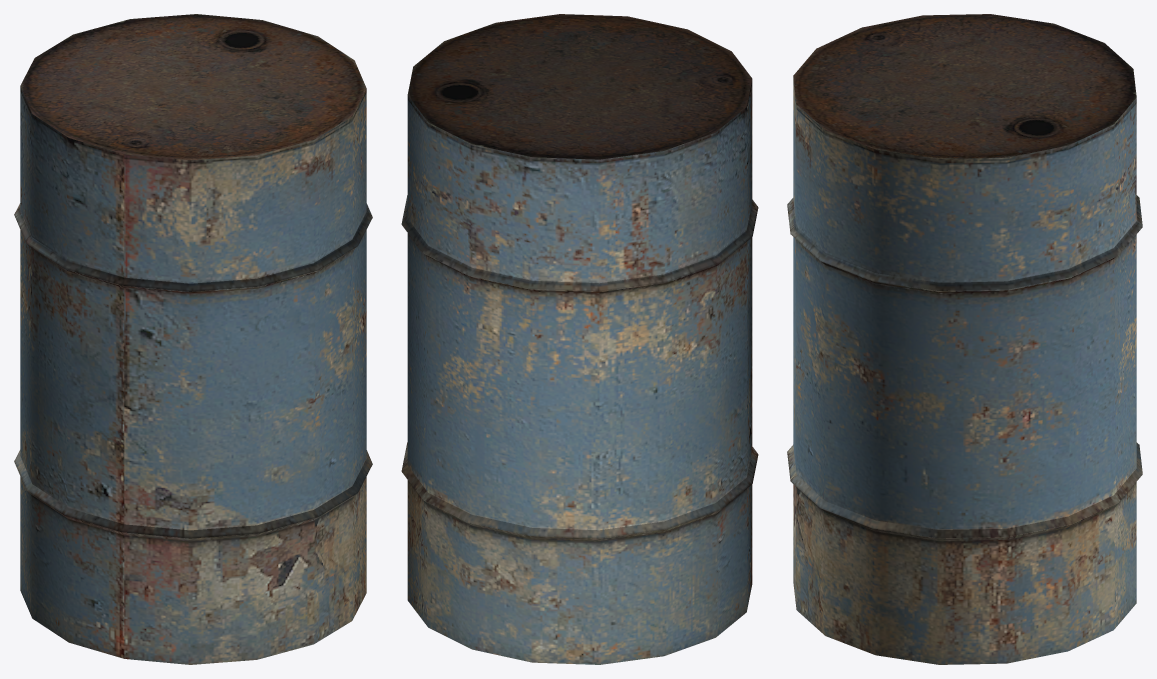
The model's file is cyan_barrel.fbx.
The picture shows the model from 3 angles, left to right: view 1: azimuth 30°, elevation 25°; view 2: azimuth 150°, elevation 25°; view 3: azimuth 270°, elevation 25°; orthographic projection.
Visible parts, largest first — view 1: cyan_barrel.001; view 2: cyan_barrel.001; view 3: cyan_barrel.001.
Boxes of the visible parts, x1,y1,x2,y2 form: cyan_barrel.001: (14, 14, 372, 664); cyan_barrel.001: (401, 14, 758, 664); cyan_barrel.001: (787, 14, 1142, 664).
Size of the model in its own units: 0.7314 by 1.15 by 0.7313.
Materials: 1 (1 with a texture image).
